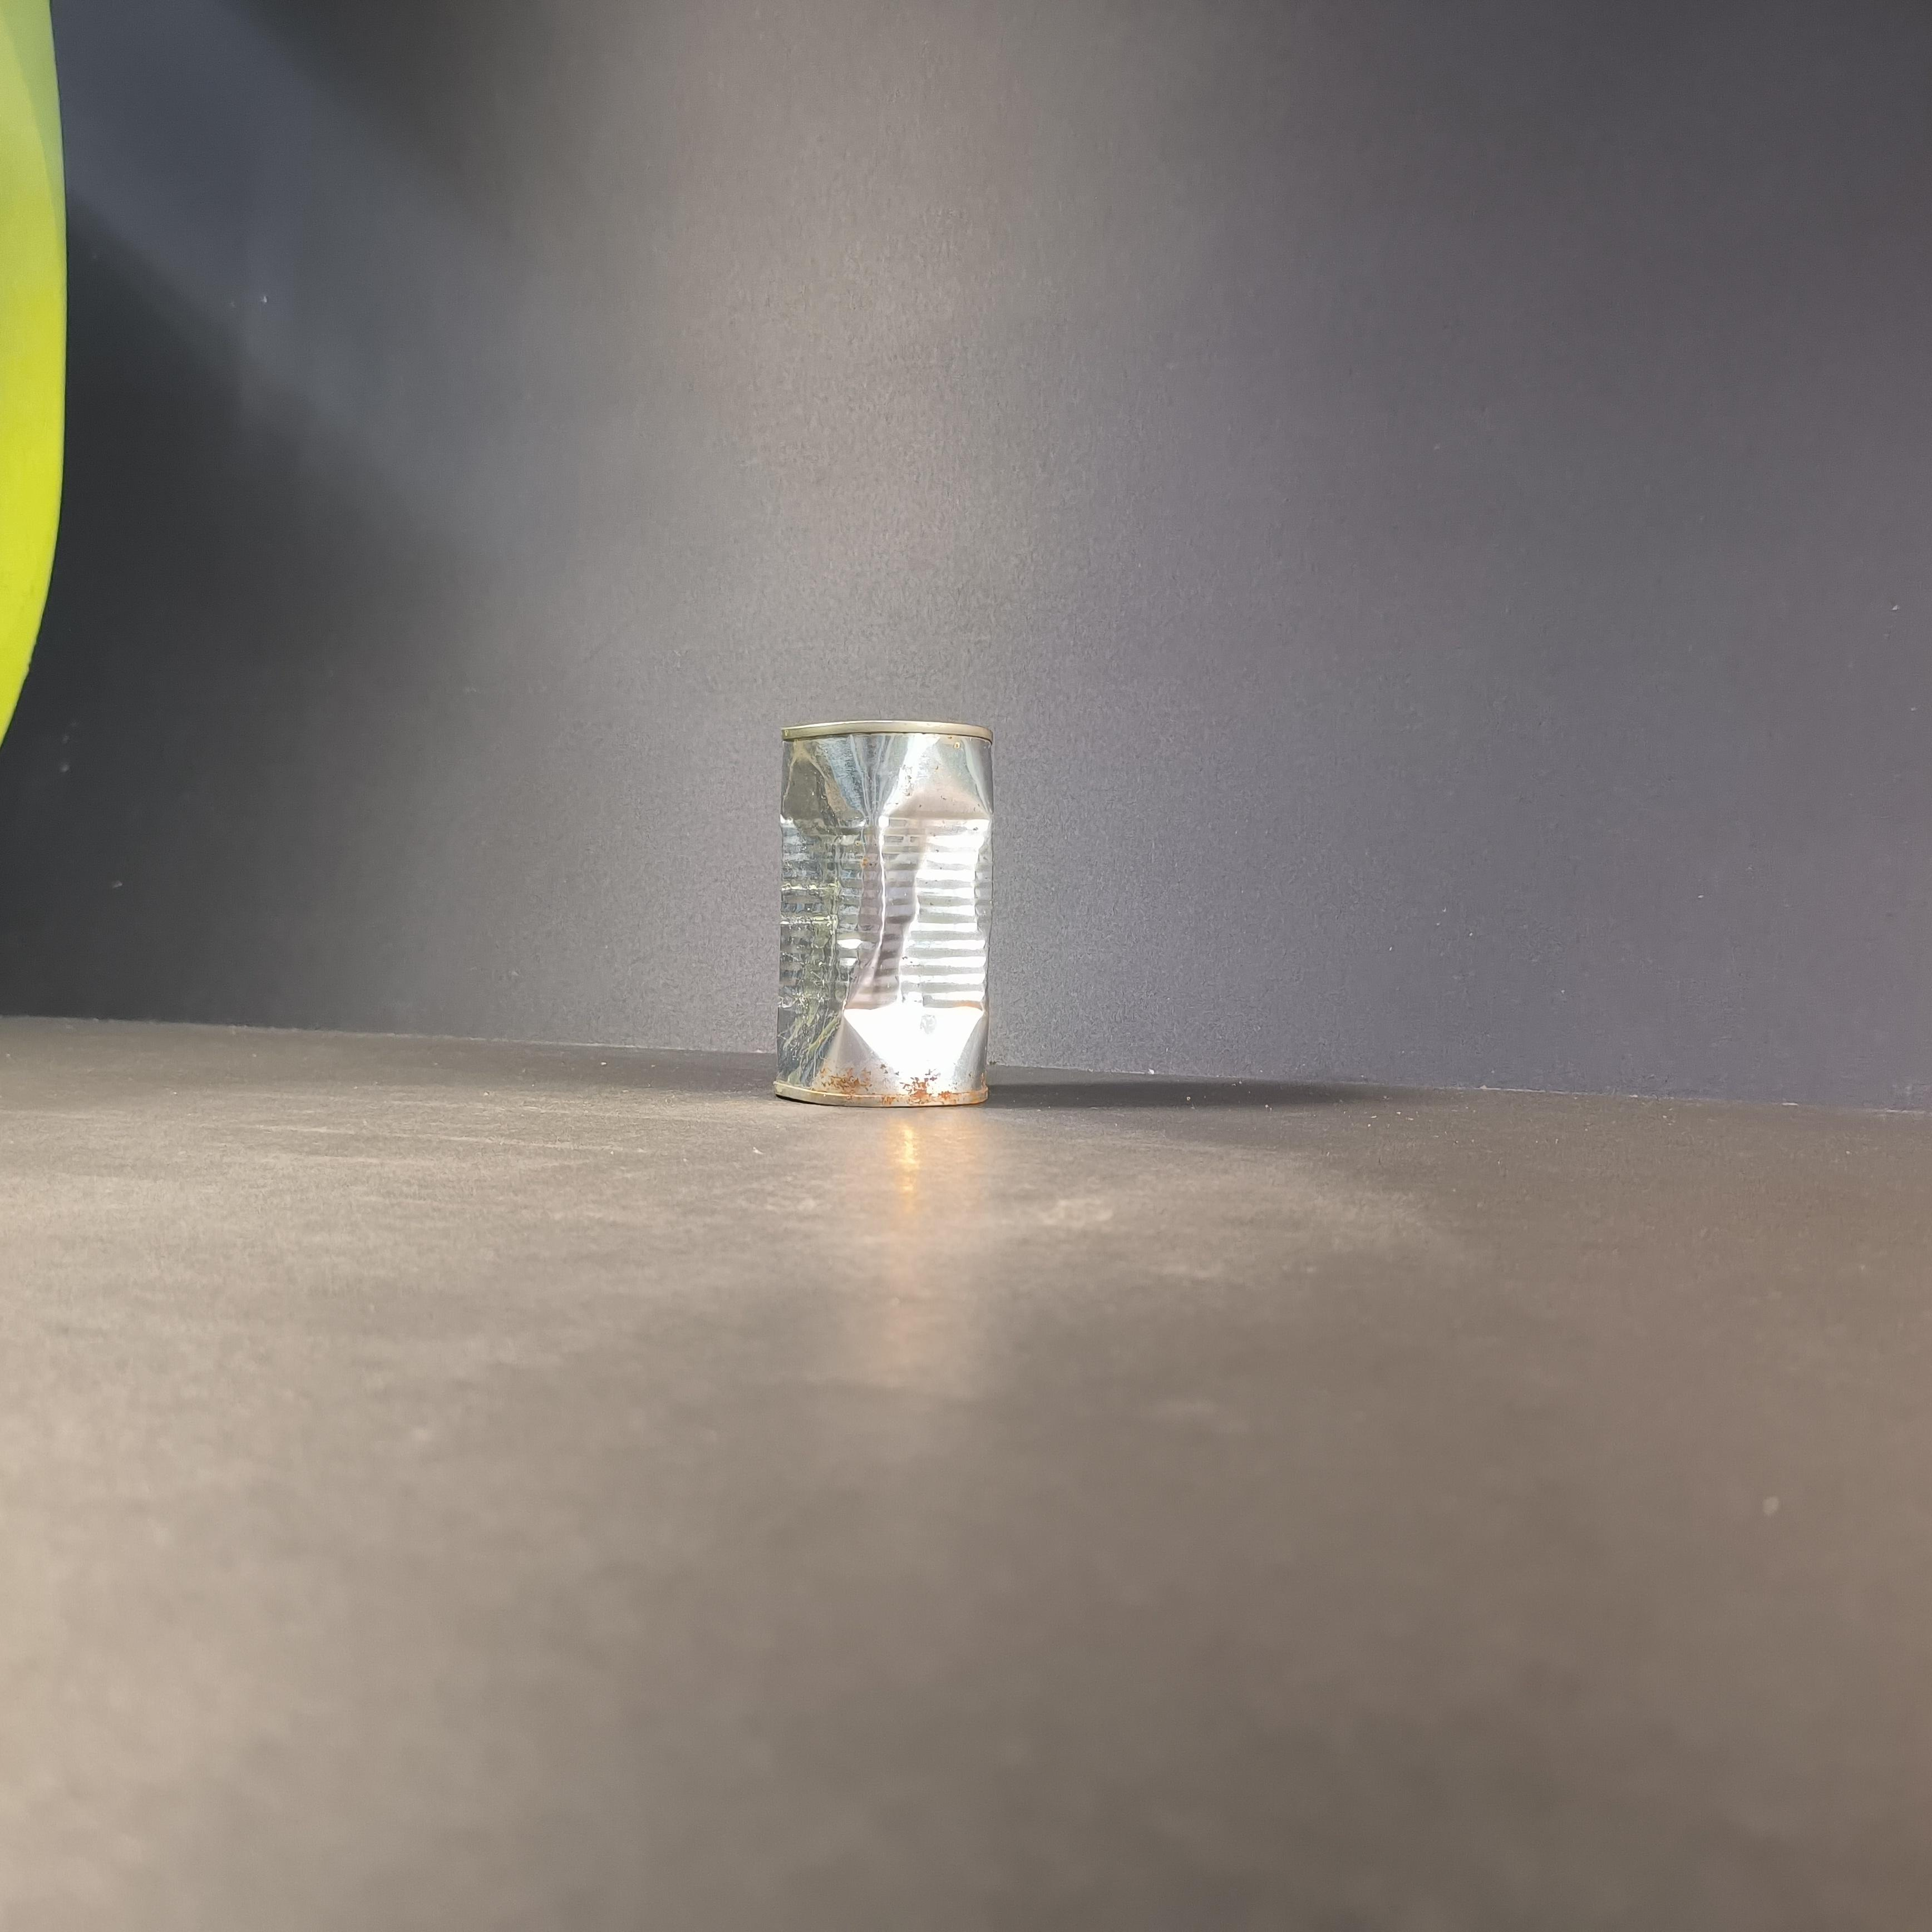Dented: (764, 699, 1000, 1118)
